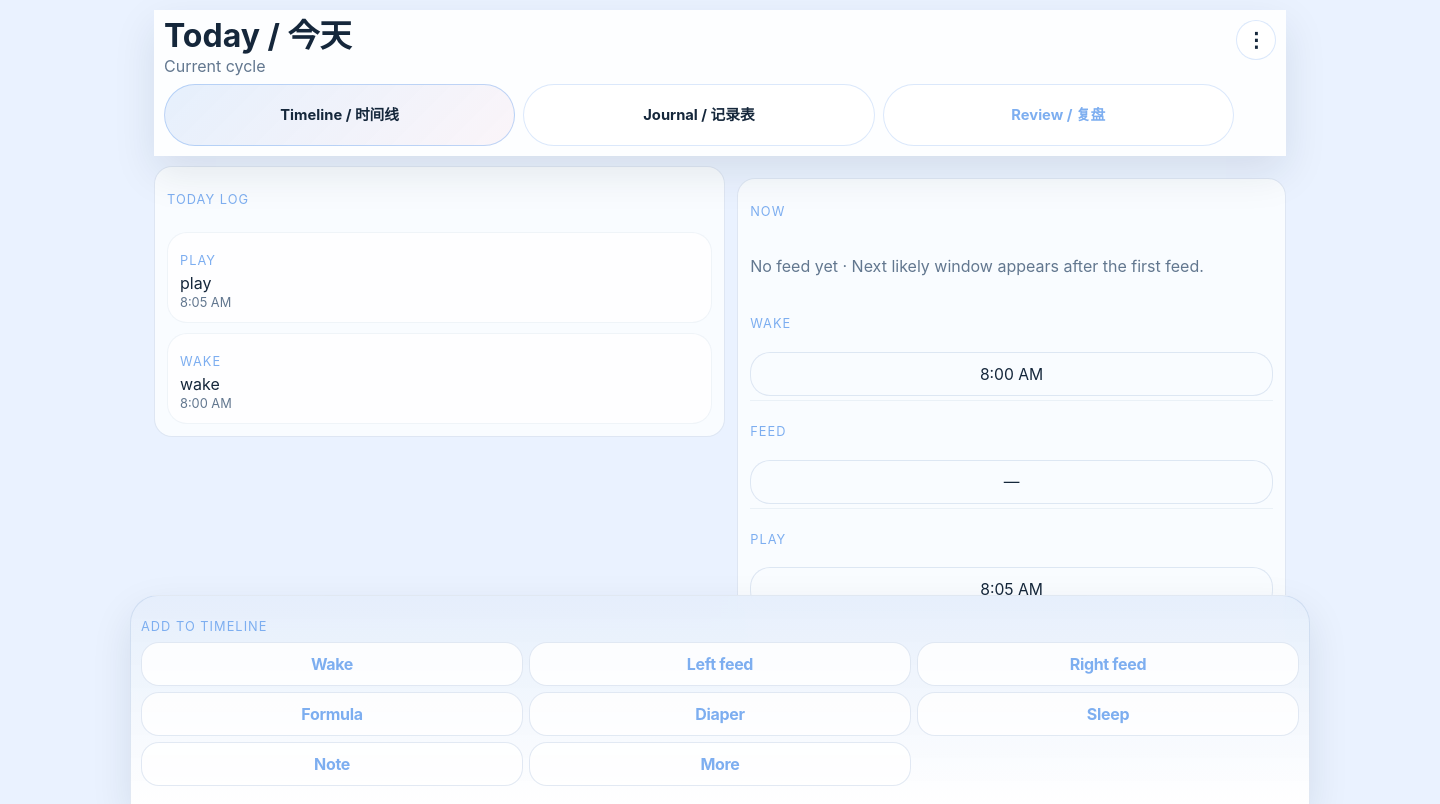
Scenario: correction delete parity › delete from Compact removes the value from Timeline and Compact projections
Expected: the list with test id "live-timeline-items" is shown, x1=167 y1=232 x2=712 y2=424
Step 1. Click the heading with test id "today-overflow-menu-toggle" → (1256, 40), box x1=1236 y1=20 x2=1276 y2=60
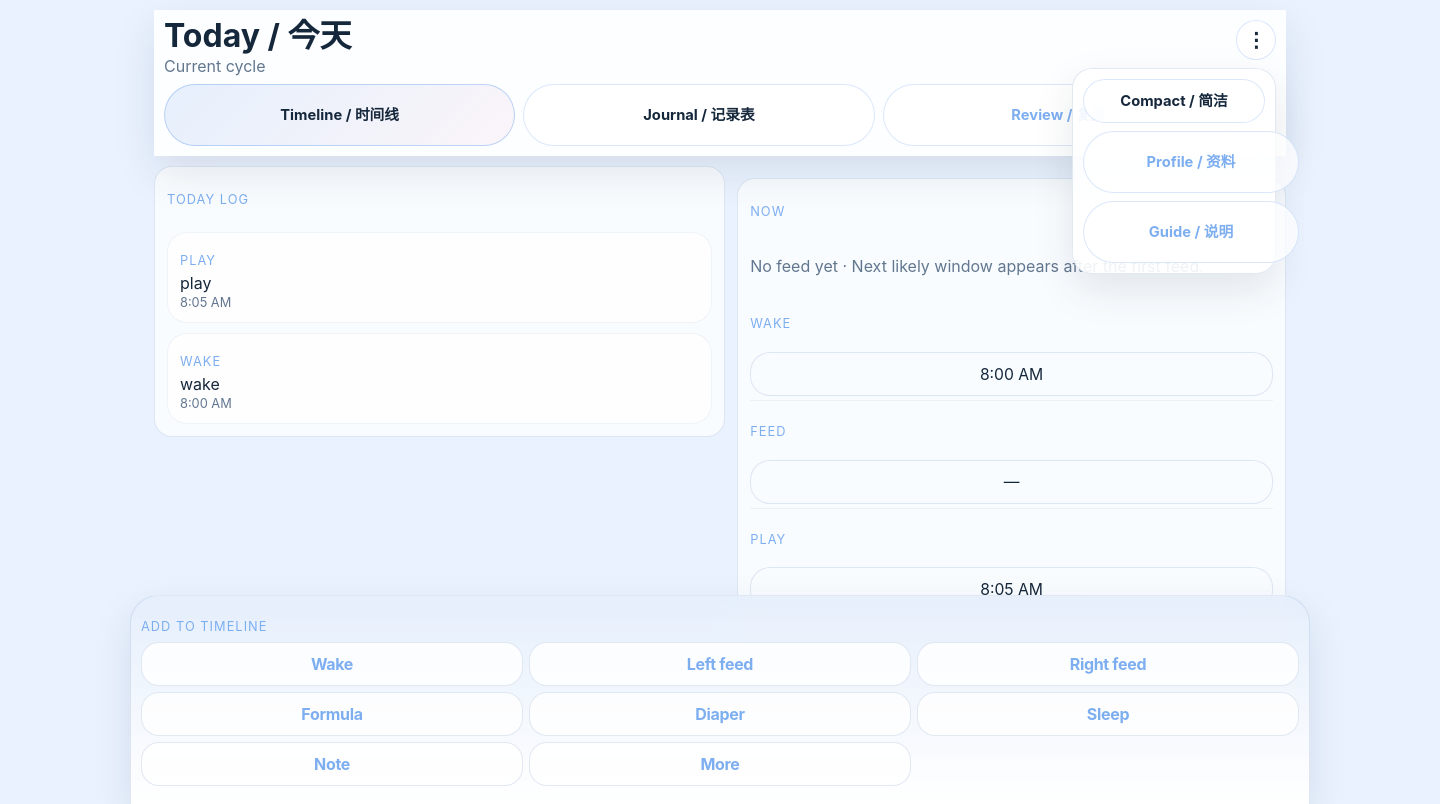
Step 2. Click the button "Compact / 简洁" → (1174, 101), box x1=1083 y1=79 x2=1265 y2=123
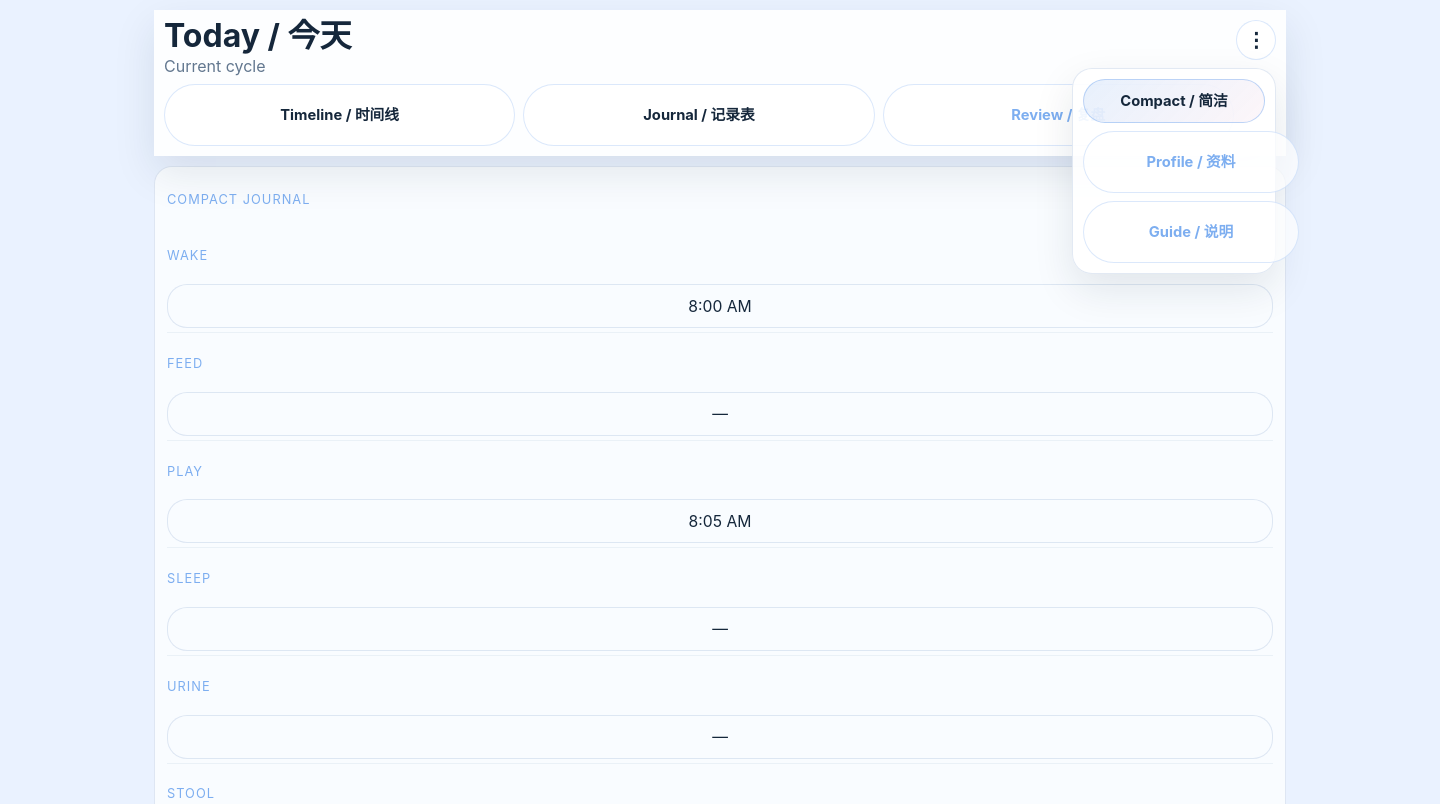
Step 3. Click the button with test id "journal-summary-startOfPlayTime" → (720, 521), box x1=167 y1=499 x2=1273 y2=543
(page scrolled)
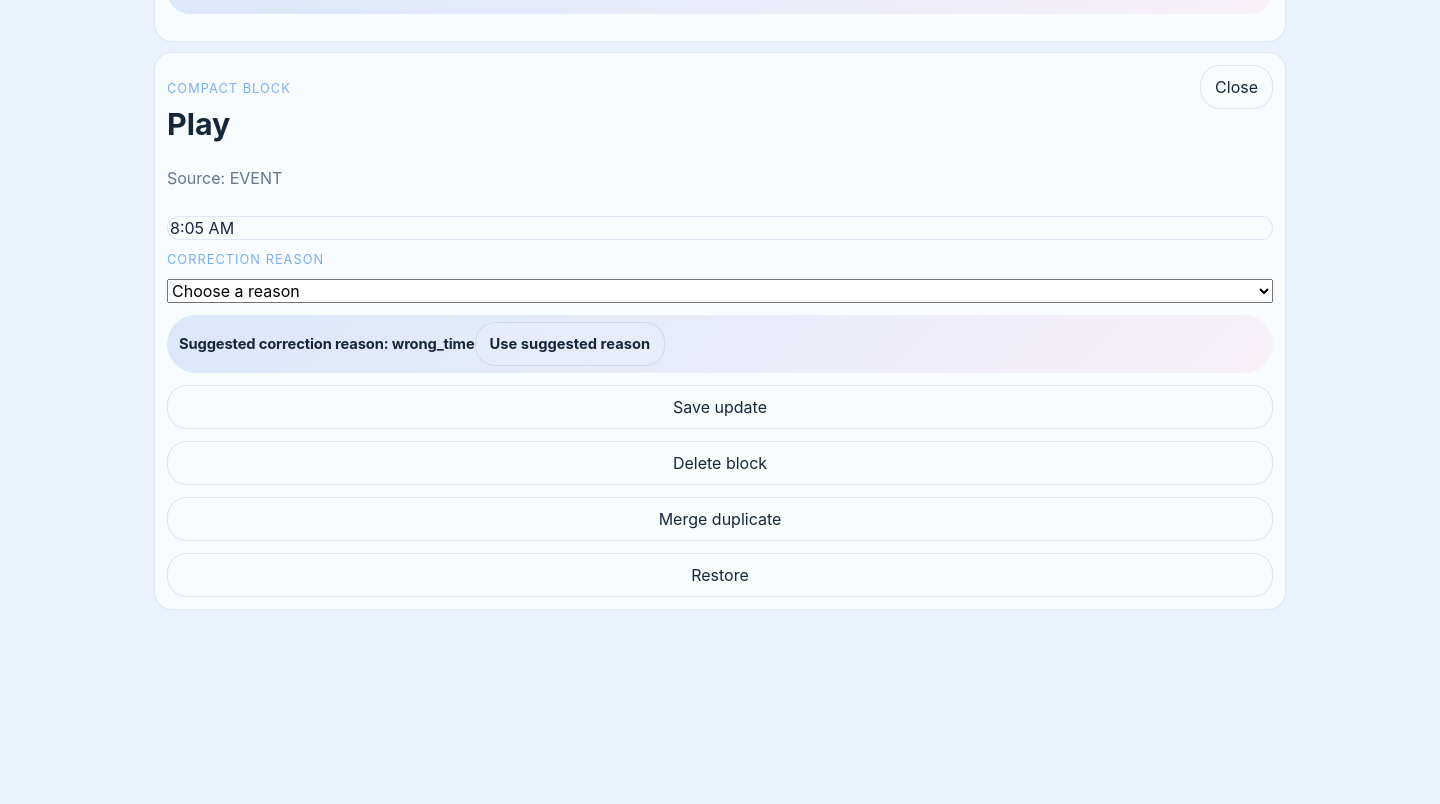
Result: the element with test id "compact-block-detail-sheet" is shown at x1=154 y1=52 x2=1286 y2=610
Step 4. Click the button "Delete block" → (720, 463), box x1=167 y1=441 x2=1273 y2=485
(page scrolled)
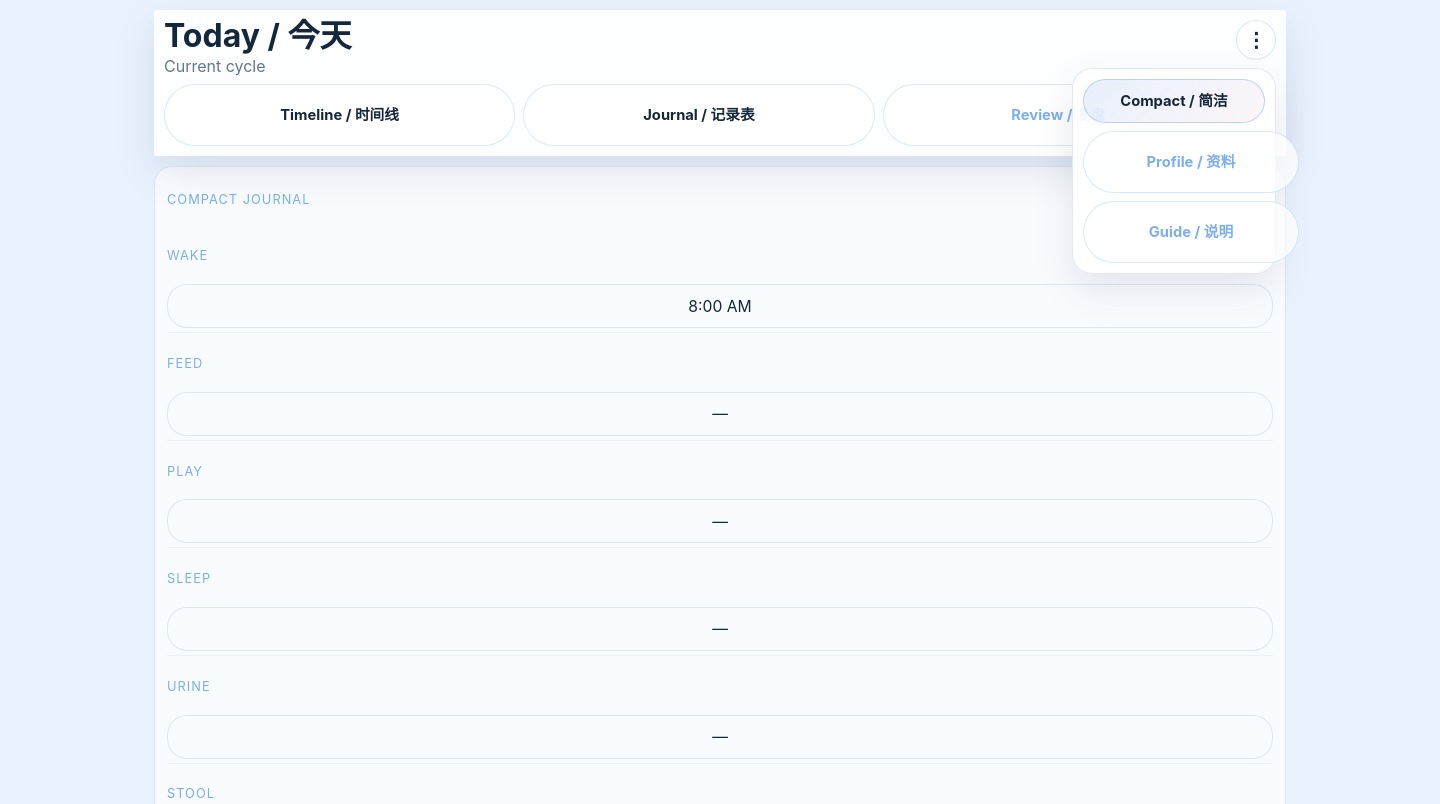
Step 5. Click the button "Timeline / 时间线" → (340, 115), box x1=164 y1=84 x2=515 y2=146
(page scrolled)
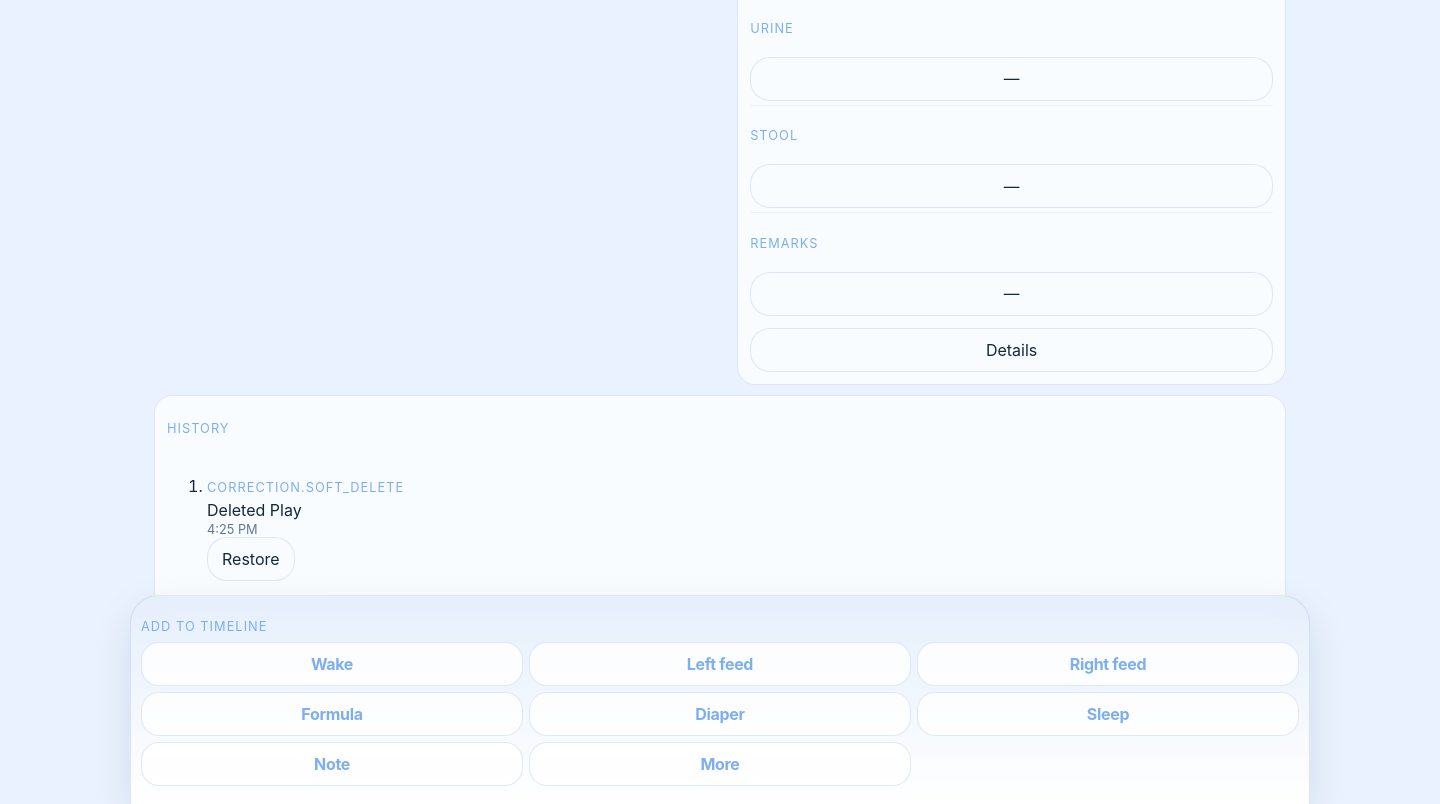
Result: the list with test id "correction-history-items" shows "correction.soft_delete" at x1=207 y1=480 x2=404 y2=495
Step 6. Click the button "Restore" → (251, 559), box x1=207 y1=537 x2=295 y2=581
(page scrolled)
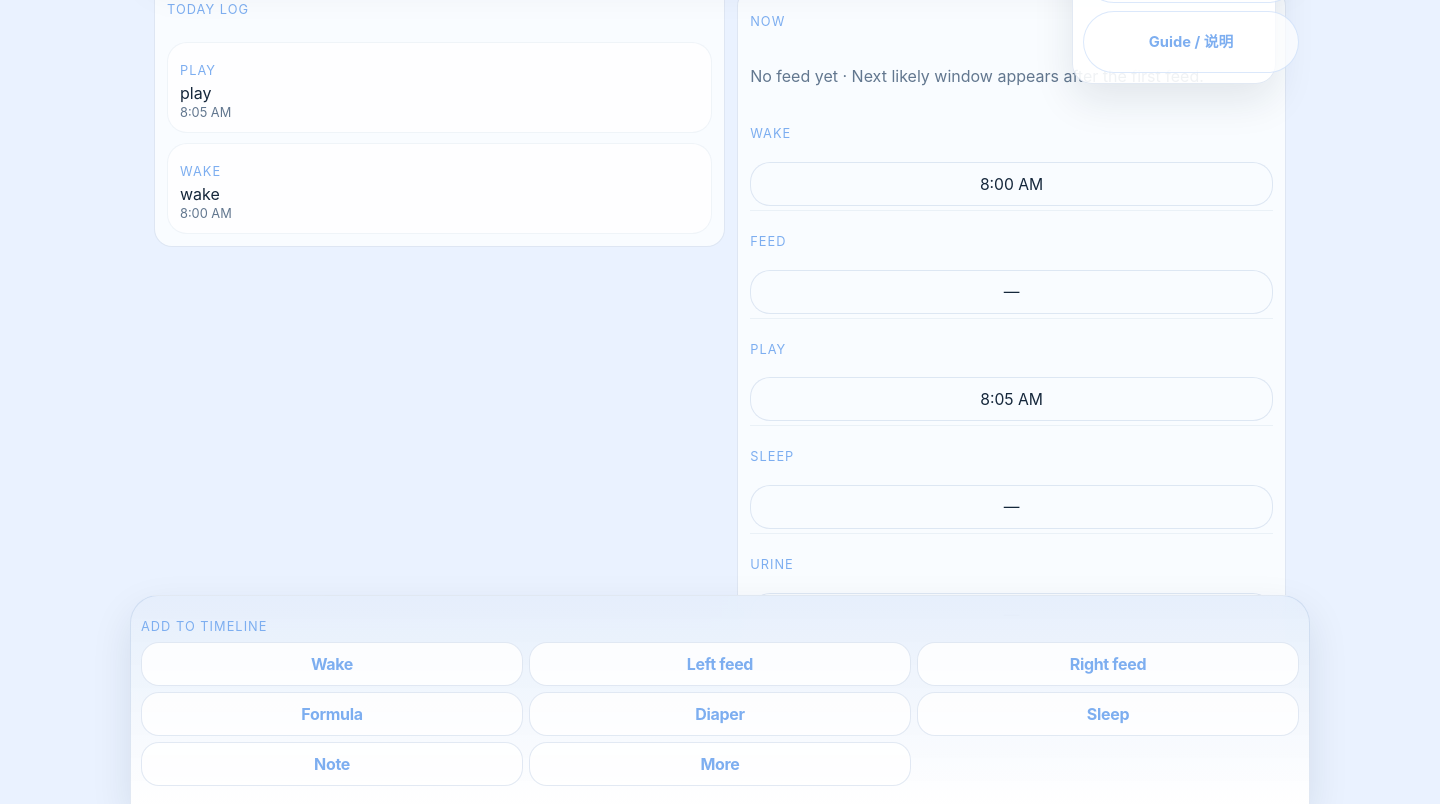
Result: the button with test id "journal-summary-startOfPlayTime" reads "8:05 AM" at x1=750 y1=377 x2=1273 y2=421
